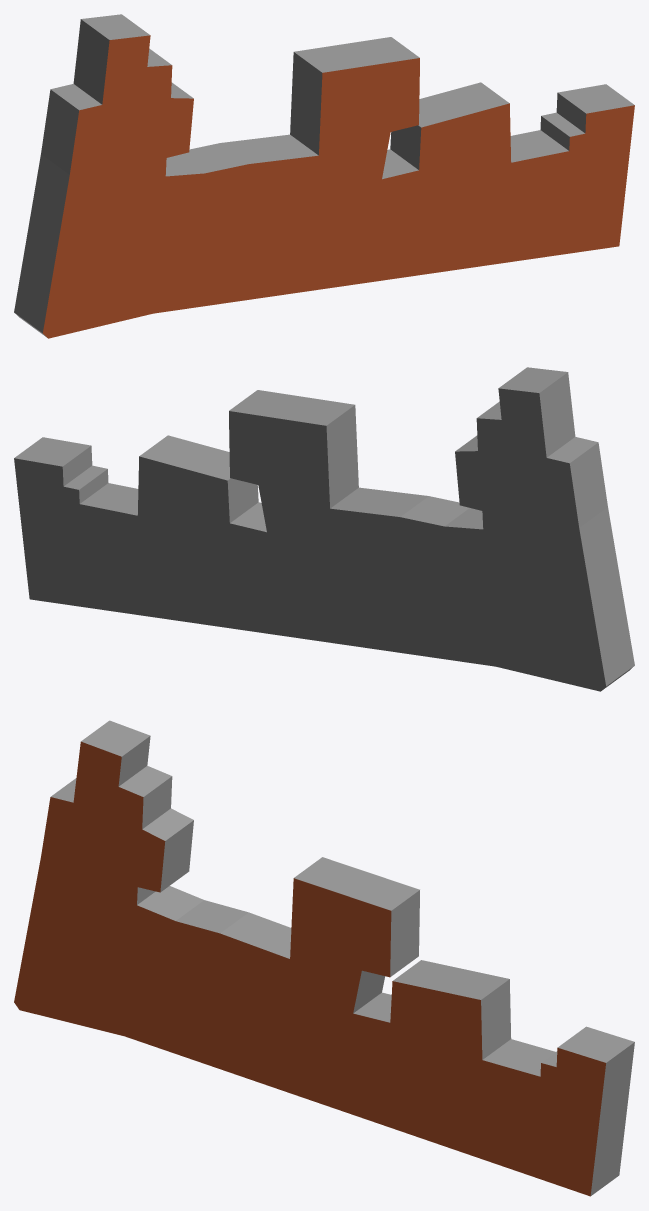
The model's file is construction_7092_assumed_A_Casa_h6m.obj.
3 views of the same model, one above another, from view 1: azimuth 30°, elevation 25°; view 2: azimuth 150°, elevation 25°; view 3: azimuth 330°, elevation 25° (orthographic).
Visible parts, largest first — view 1: construction_7092_assumed_A_Casa; view 2: construction_7092_assumed_A_Casa; view 3: construction_7092_assumed_A_Casa.
Part boxes in pixels (bbox=[...]): construction_7092_assumed_A_Casa: bbox=[14, 14, 634, 338]; construction_7092_assumed_A_Casa: bbox=[14, 367, 634, 691]; construction_7092_assumed_A_Casa: bbox=[14, 720, 634, 1196].
Bounding box in the file's own units: 71.23 × 38 × 6.
